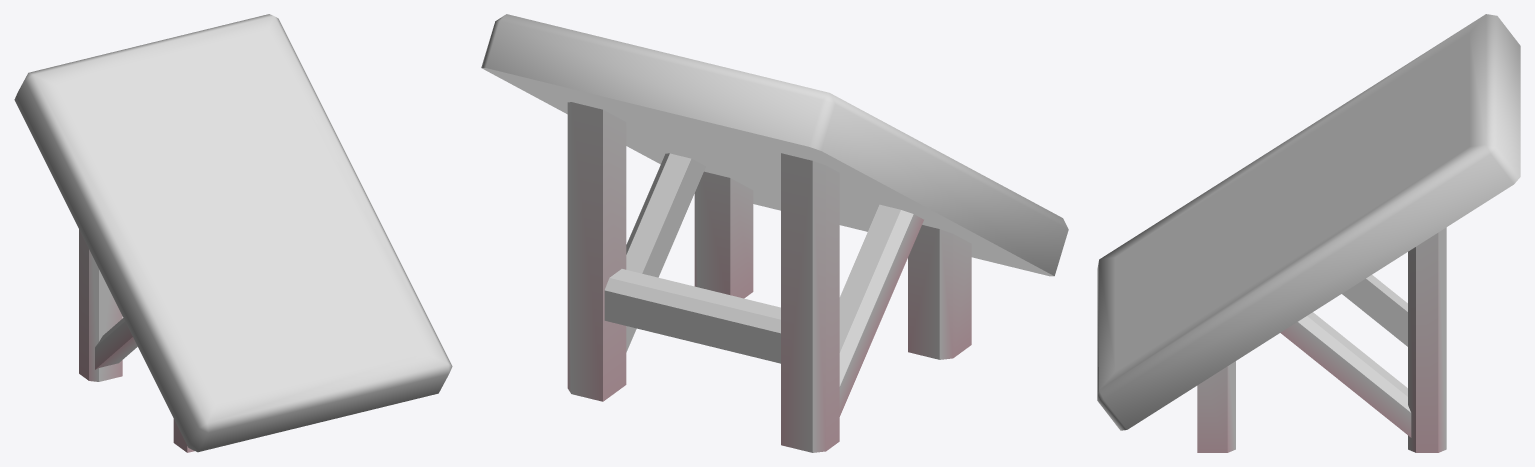
The model's file is NF_Prop_Solar panel.fbx.
3 renders of one model, left to right at view 1: azimuth 30°, elevation 25°; view 2: azimuth 150°, elevation 25°; view 3: azimuth 270°, elevation 25°, orthographic. The views are drawn at different scales.
Parts seen in each view (by area): view 1: Solar panel; view 2: Solar panel; view 3: Solar panel.
Boxes of the visible parts, <box> form: Solar panel: <box>14,14,452,452</box>; Solar panel: <box>481,14,1068,452</box>; Solar panel: <box>1097,14,1520,452</box>.
Bounding box in the file's own units: 1 × 1.09 × 1.3.
